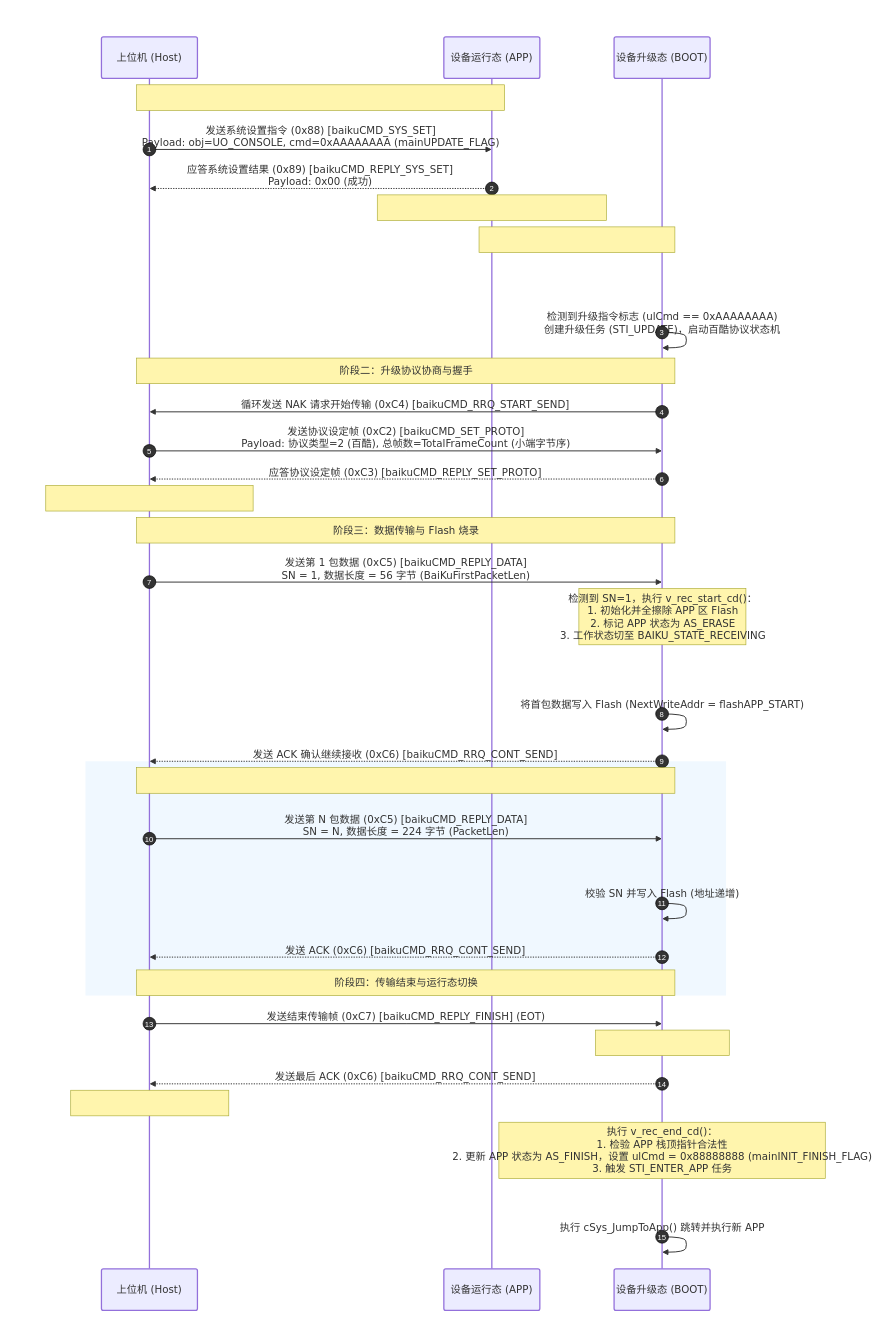
Some shapes in this 883 by 1322 pixel diagram are drawn without their labels. The shapes that lost their labels are listed below. From the top down, each one's centre as x and y in pixels, then its label:
(320,97): 阶段一：触发升级 (APP 态)
(491,207): 保存 ulCmd = 0xAAAAAAAA 并调用 NVIC_SystemReset() 重启
(576,239): 系统复位并引导至 BOOT 态
(149,498): 握手成功，标记 IsSatrt = true，进入 PacketSending 状态
(405,780): 循环发送后续数据包 (从第 2 包至最后一包)
(662,1042): 切换状态至 BAIKU_STATE_FINISH
(149,1103): 触发 EndOfTransmit 事件，显示"传输完成"
